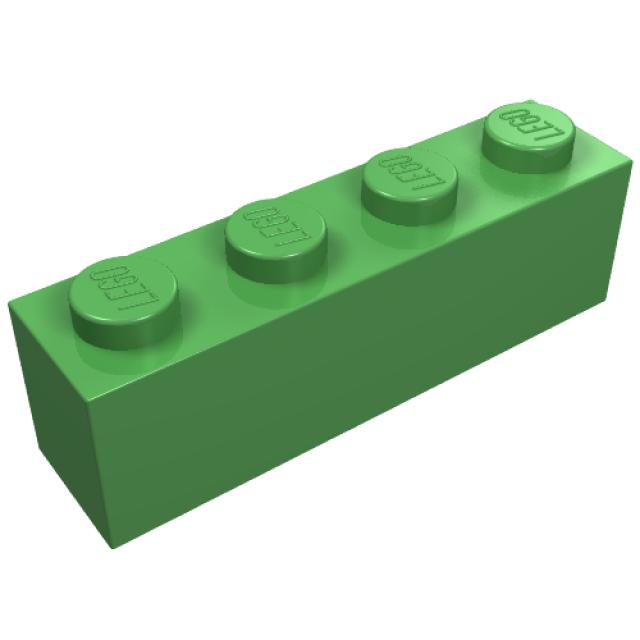Green_Large: (8, 101, 634, 552)
